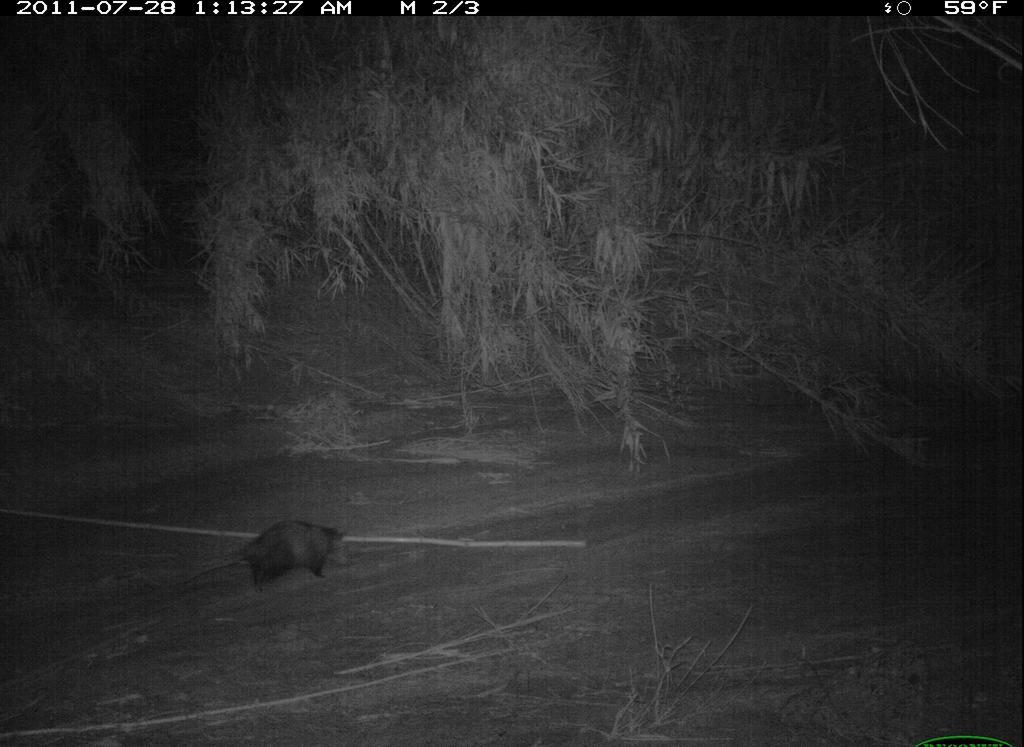opossum: (173, 514, 353, 600)
